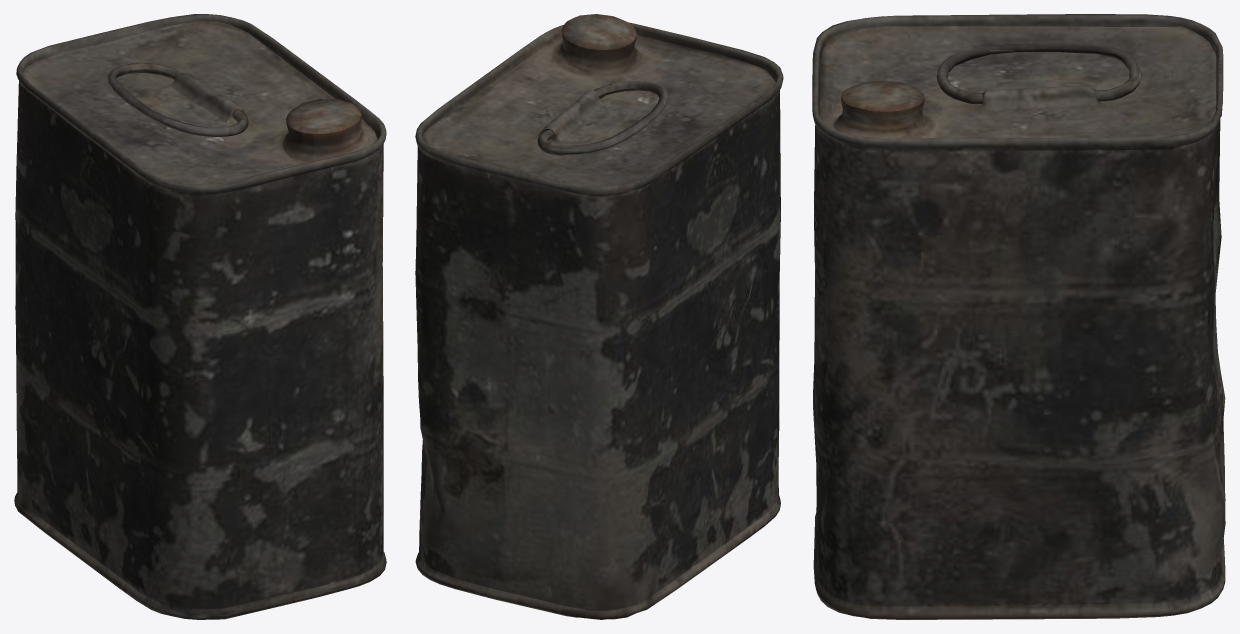
3 views of the same model, side by side, from view 1: azimuth 30°, elevation 25°; view 2: azimuth 150°, elevation 25°; view 3: azimuth 270°, elevation 25° (orthographic). The views are drawn at different scales.
Visible parts, largest first — view 1: oil_tin, oil_tin_handle; view 2: oil_tin, oil_tin_handle; view 3: oil_tin, oil_tin_handle.
Part boxes in pixels (left/top/right/bottom): oil_tin: left=14, top=14, right=386, bottom=619; oil_tin_handle: left=108, top=63, right=248, bottom=137; oil_tin: left=415, top=14, right=783, bottom=619; oil_tin_handle: left=537, top=81, right=668, bottom=155; oil_tin: left=812, top=14, right=1225, bottom=619; oil_tin_handle: left=936, top=43, right=1141, bottom=103.
Bounding box in the file's own units: 0.1147 × 0.2054 × 0.1535.
1 material, 1 textured.
